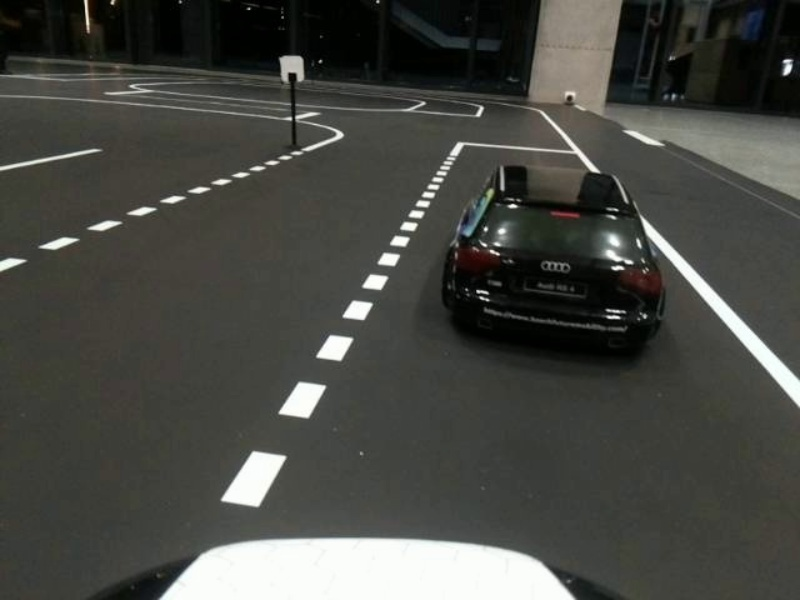car: (437, 157, 685, 365)
